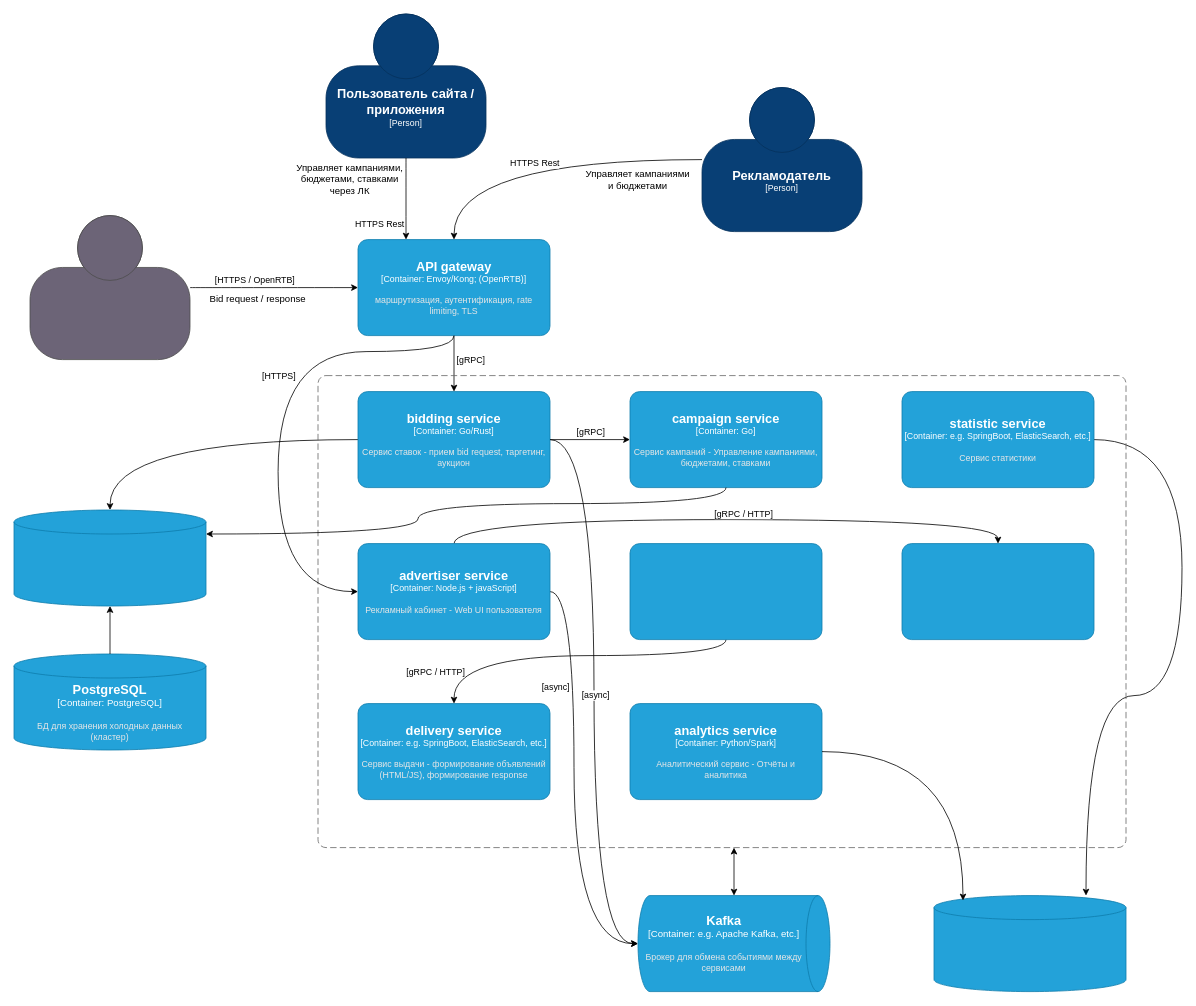
The diagram is 1196 pixels wide and 1006 high, and some of its shapes have lost their labels. The box of each missing label's shape, as (x1, y1, x2, y2) in pixels:
AdScale microservices [Container]: (317, 375, 1126, 848)
auction service [Container: Go/Python] Сервис аукциона: (629, 543, 822, 640)
ClickHouse [Container: ClickHouse]: (933, 895, 1126, 992)
DSP-партнёр [Person]: (29, 215, 190, 360)
financial service [Container: Go/Python] финансовый сервис: (901, 543, 1094, 640)
Redis [Container: Redis] КЭШ для горячих данных: (13, 509, 206, 606)
